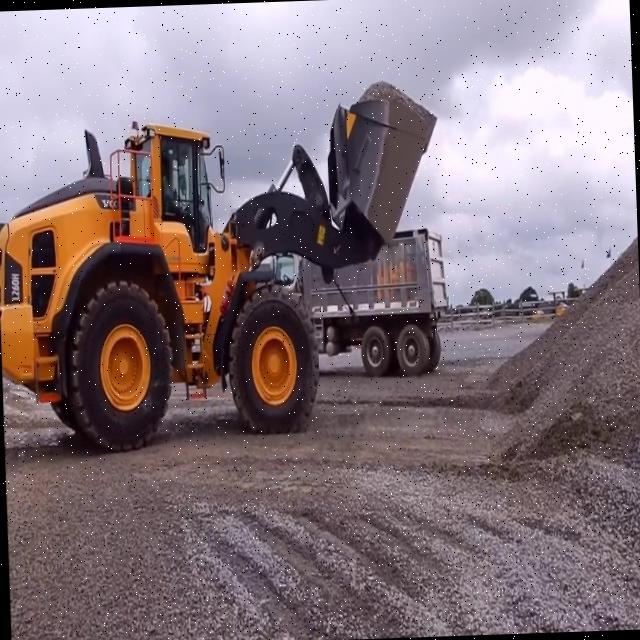Dump Truck: (254, 224, 451, 382)
Loader: (0, 98, 447, 456)
